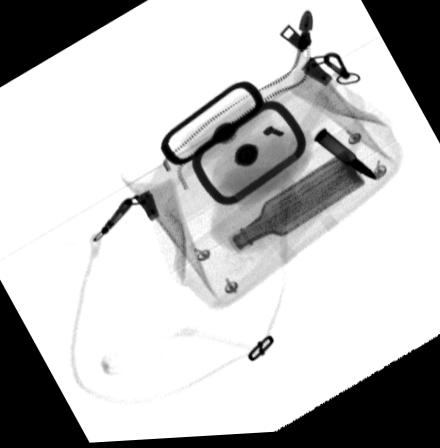Bullet: (314, 130, 381, 187)
